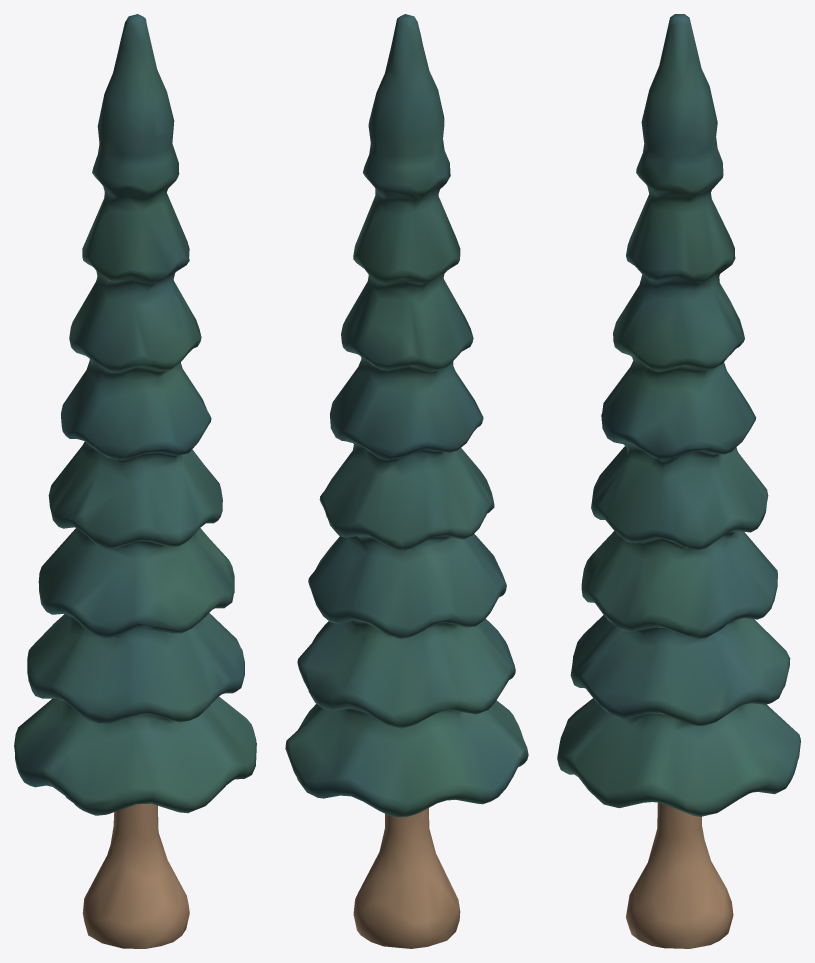
Rendered from pine1.glb.
3 views of the same model, side by side, from view 1: azimuth 30°, elevation 25°; view 2: azimuth 150°, elevation 25°; view 3: azimuth 270°, elevation 25° (orthographic).
Visible parts, largest first — view 1: pine_canopy_tall, body; view 2: pine_canopy_tall, body; view 3: pine_canopy_tall, body.
Boxes of the visible parts, <box> form: pine_canopy_tall: <box>14,14,256,815</box>; body: <box>82,803,189,948</box>; pine_canopy_tall: <box>285,14,528,817</box>; body: <box>353,808,460,948</box>; pine_canopy_tall: <box>557,14,800,816</box>; body: <box>626,802,733,948</box>.
Bounding box in the file's own units: 2.27 × 9.54 × 2.28.
